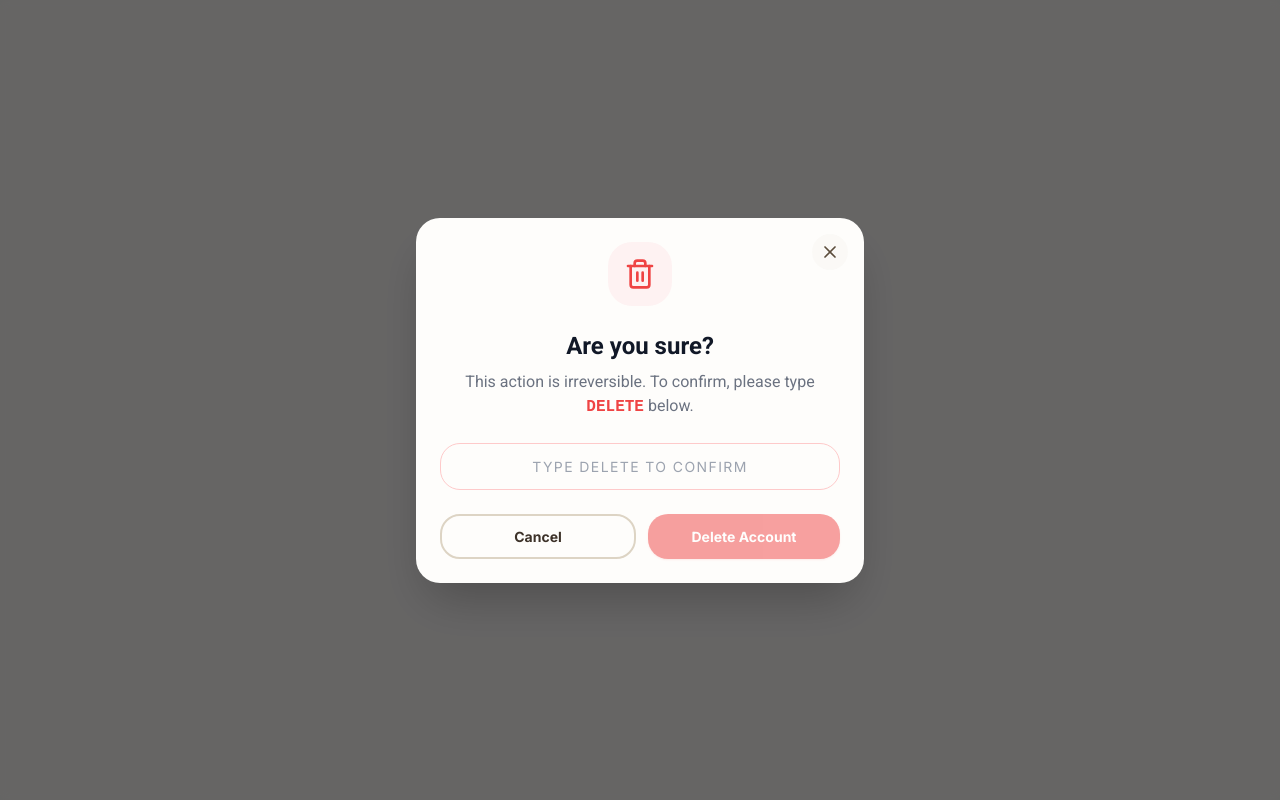
DeleteAccountModal › enables confirm button when DELETE is typed
Type "DELETE" into the field with placeholder "Type DELETE to confirm" at point(640, 466), box [440, 442, 840, 490]
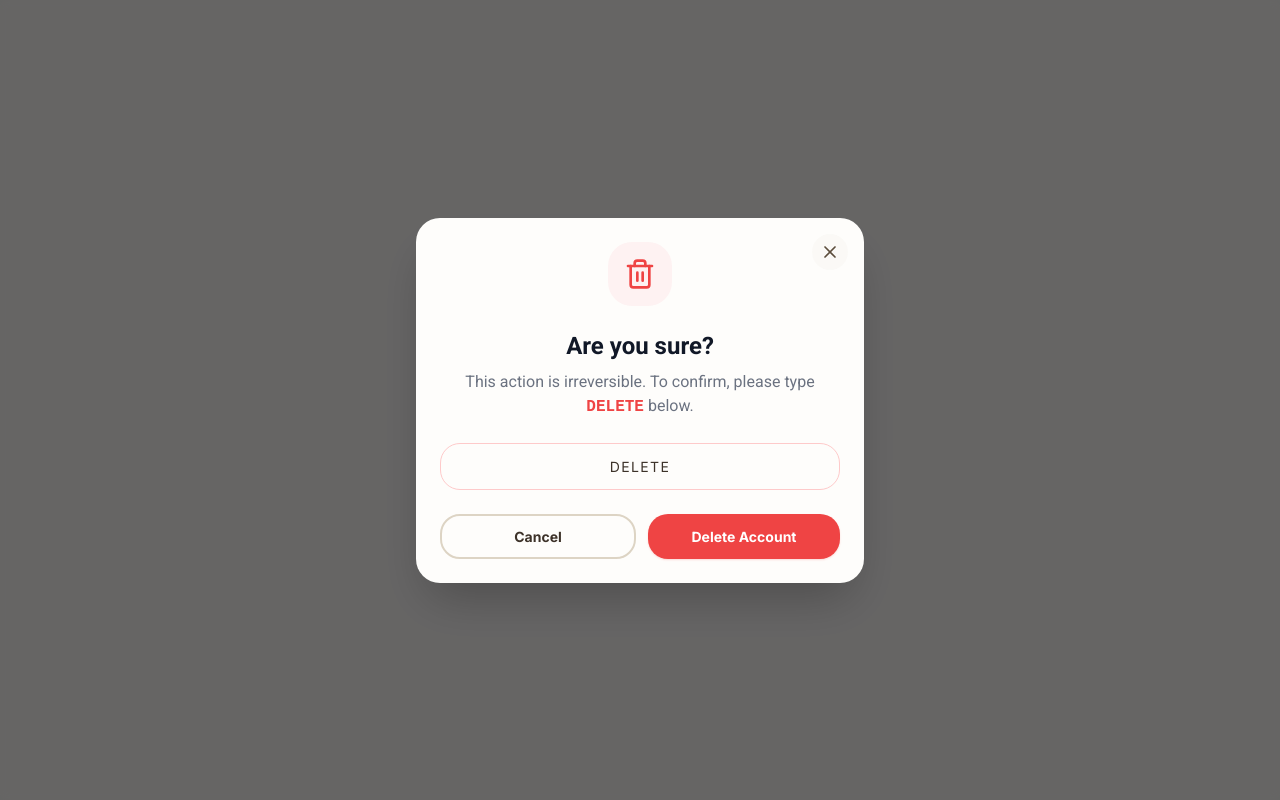
expect the button "Delete Account" is enabled: met, box [648, 514, 840, 558]
